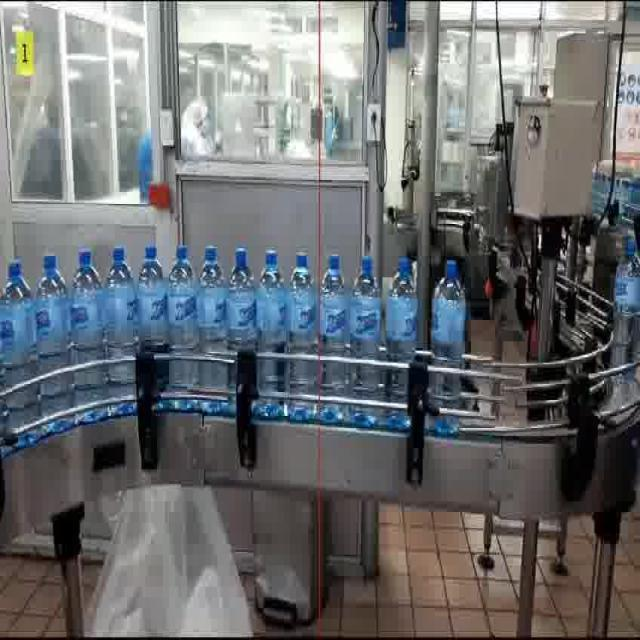bottle: (428, 258, 468, 436), (382, 258, 422, 436), (346, 248, 386, 426), (282, 246, 322, 424), (254, 242, 294, 420), (102, 240, 142, 418), (164, 240, 204, 418), (196, 230, 236, 408), (0, 256, 40, 434), (34, 246, 74, 424), (68, 240, 108, 418), (316, 245, 356, 422), (223, 246, 259, 353), (134, 243, 168, 350)
